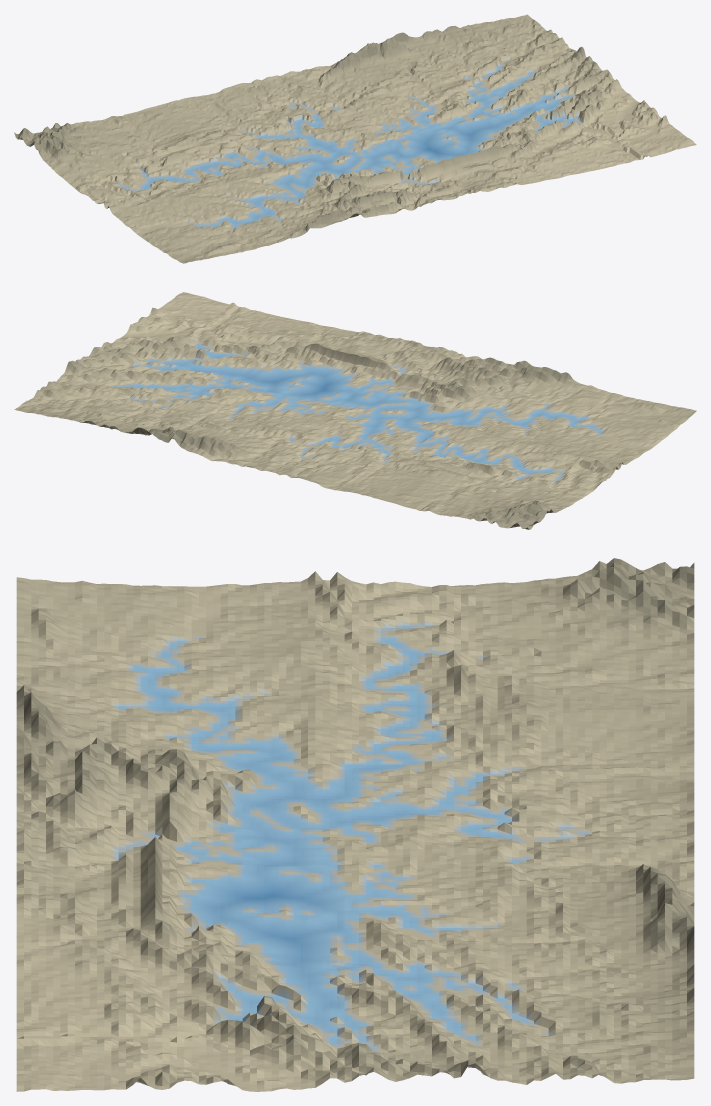
The model's file is lake_ouachita_ar.glb.
3 renders of one model, top to bottom at view 1: azimuth 30°, elevation 25°; view 2: azimuth 150°, elevation 25°; view 3: azimuth 270°, elevation 25°, orthographic. The views are drawn at different scales.
Visible parts, largest first — view 1: terrain, water; view 2: terrain, water; view 3: terrain, water.
Part boxes in pixels (left/top/right/bottom): terrain: left=14, top=14, right=696, bottom=263; water: left=124, top=67, right=578, bottom=227; terrain: left=14, top=292, right=696, bottom=529; water: left=121, top=344, right=602, bottom=479; terrain: left=16, top=558, right=694, bottom=1091; water: left=118, top=625, right=526, bottom=1048.
Size of the model in its own units: 41752 by 1803 by 23844.
